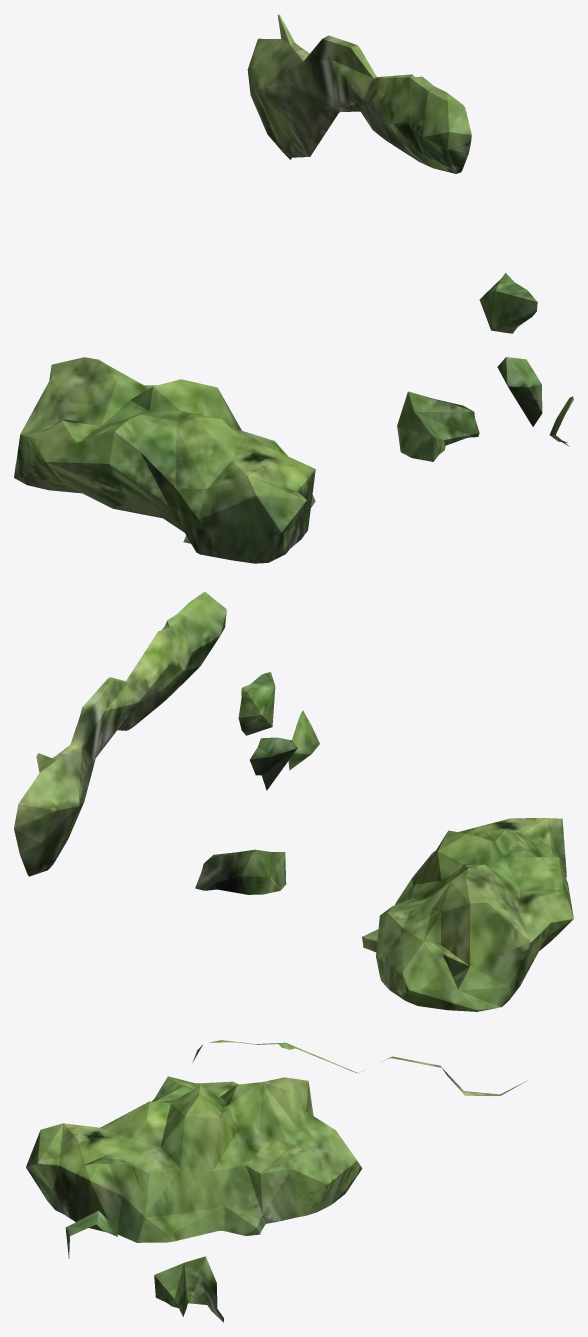
3 renders of one model, top to bottom at view 1: azimuth 30°, elevation 25°; view 2: azimuth 150°, elevation 25°; view 3: azimuth 270°, elevation 25°, orthographic. The views are drawn at different scales.
Bounding box in the file's own units: 11.24 × 8.35 × 15.1.
1 material, 1 textured.
